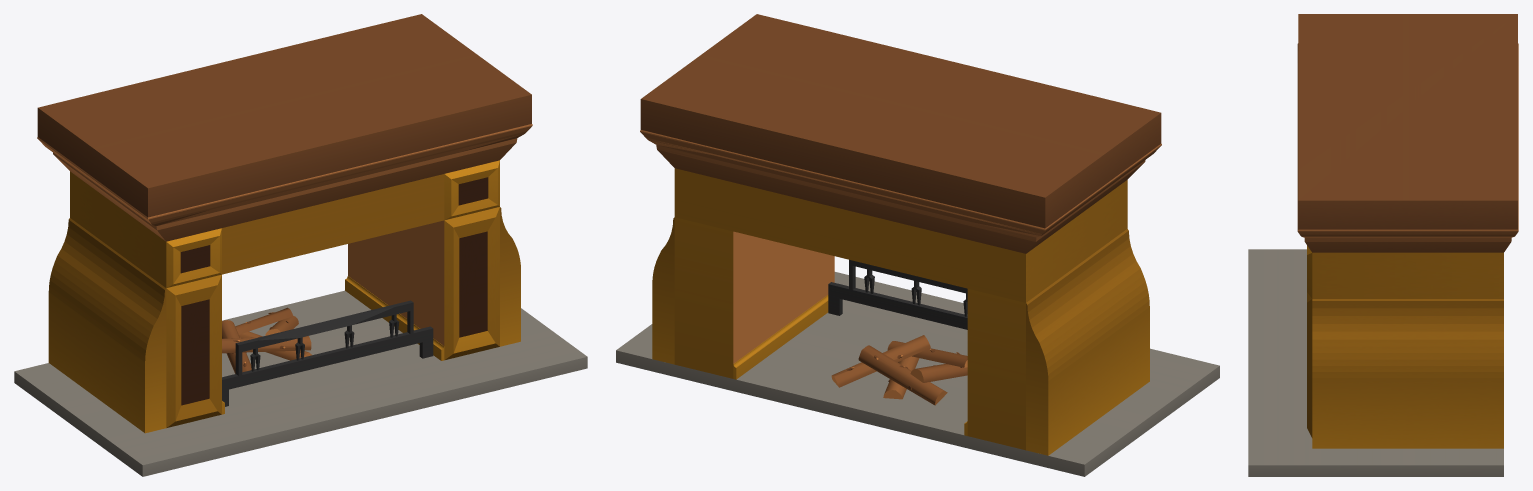
The model's file is Fireplace final.fbx.
The picture shows the model from 3 angles, left to right: view 1: azimuth 30°, elevation 25°; view 2: azimuth 150°, elevation 25°; view 3: azimuth 270°, elevation 25°; orthographic projection. The views are drawn at different scales.
Visible parts, largest first — view 1: FirePlace, FireScreen, FireWood2, FireWood4; view 2: FirePlace, FireScreen, FireWood4, FireWood3, FireWood5, FireWood2; view 3: FirePlace.
Boxes of the visible parts, bbox=[...] form: FirePlace: bbox=[14, 14, 587, 476]; FireScreen: bbox=[222, 300, 433, 406]; FireWood2: bbox=[222, 336, 311, 353]; FireWood4: bbox=[235, 307, 292, 334]; FirePlace: bbox=[616, 14, 1219, 476]; FireScreen: bbox=[828, 259, 967, 329]; FireWood4: bbox=[858, 345, 947, 405]; FireWood3: bbox=[831, 335, 930, 387]; FireWood5: bbox=[910, 364, 967, 382]; FireWood2: bbox=[887, 341, 967, 367]; FirePlace: bbox=[1248, 14, 1518, 476].
Size of the model in its own units: 2 by 1.13 by 1.06.
